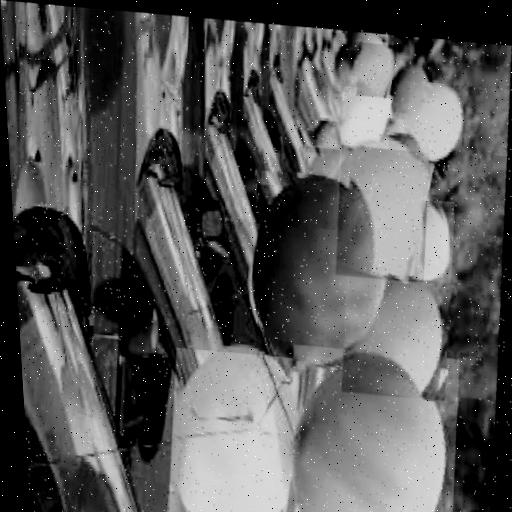balloon: (246, 165, 402, 378), (284, 343, 476, 512), (168, 346, 316, 512), (341, 271, 462, 402), (333, 144, 439, 284), (403, 80, 472, 164), (404, 197, 462, 283), (338, 85, 395, 153), (354, 41, 399, 98), (329, 32, 369, 96), (392, 69, 434, 115), (306, 146, 344, 178), (410, 135, 435, 180), (347, 30, 383, 52)
